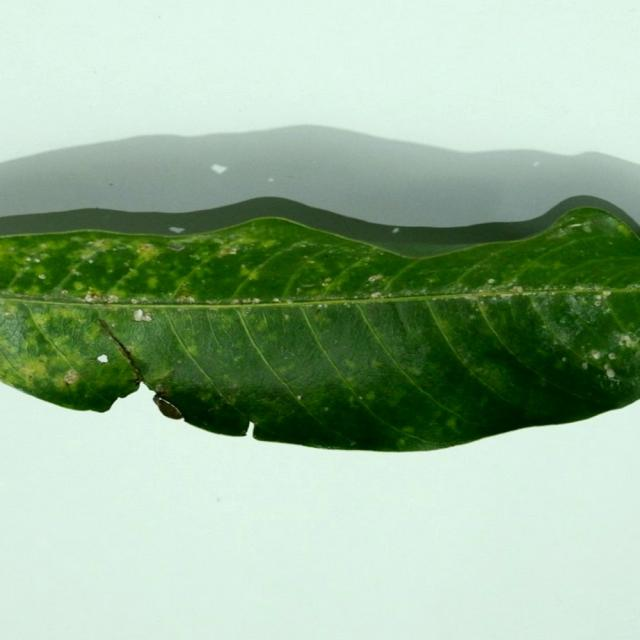Mango: (0, 203, 639, 451)
Powdery_Mildew: (565, 218, 616, 239), (137, 241, 169, 270), (153, 395, 182, 418), (63, 368, 80, 385), (133, 308, 153, 322), (594, 291, 612, 305), (619, 334, 637, 348), (85, 292, 101, 303), (139, 243, 155, 253), (605, 365, 616, 378), (168, 243, 185, 251), (96, 353, 109, 363), (368, 274, 383, 282), (169, 226, 186, 233), (25, 256, 41, 263), (154, 383, 165, 393), (370, 276, 388, 282), (591, 350, 601, 359), (583, 223, 593, 232), (569, 223, 584, 229), (108, 295, 119, 303), (511, 286, 523, 293), (601, 291, 612, 298), (370, 292, 382, 298), (581, 361, 589, 370), (594, 298, 602, 306), (228, 248, 237, 255), (71, 269, 80, 276), (316, 303, 326, 309), (42, 294, 52, 300), (323, 277, 331, 284), (187, 296, 195, 303), (392, 227, 400, 234), (609, 353, 616, 360), (487, 278, 495, 284), (38, 274, 46, 280), (130, 298, 138, 304), (4, 311, 13, 316), (284, 314, 290, 321), (252, 298, 260, 303), (231, 299, 239, 304), (60, 290, 68, 295), (464, 286, 470, 292), (88, 259, 94, 264), (296, 287, 301, 293), (562, 356, 567, 362), (421, 288, 427, 293), (273, 298, 280, 302), (108, 335, 113, 340), (297, 395, 302, 400), (241, 264, 246, 269), (353, 295, 359, 299), (324, 407, 329, 411), (387, 293, 392, 297), (111, 323, 116, 327), (359, 396, 363, 400)
